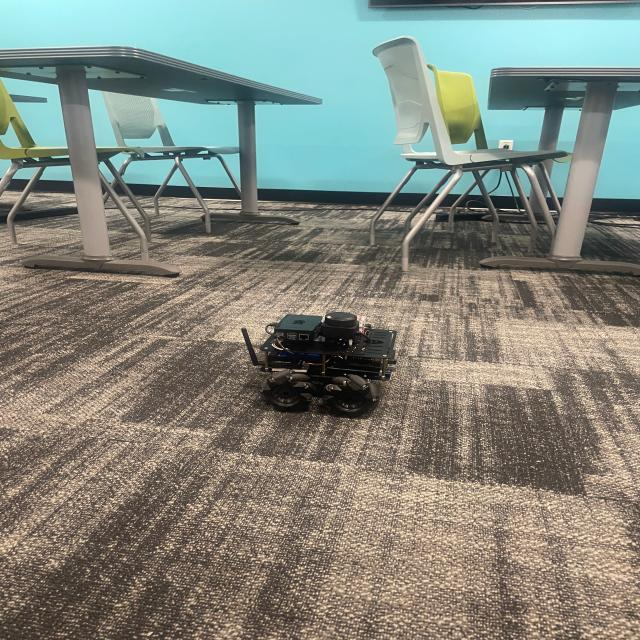ArduinoCar3: (239, 308, 403, 417)
